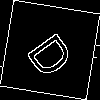D: (25, 25, 83, 81)
